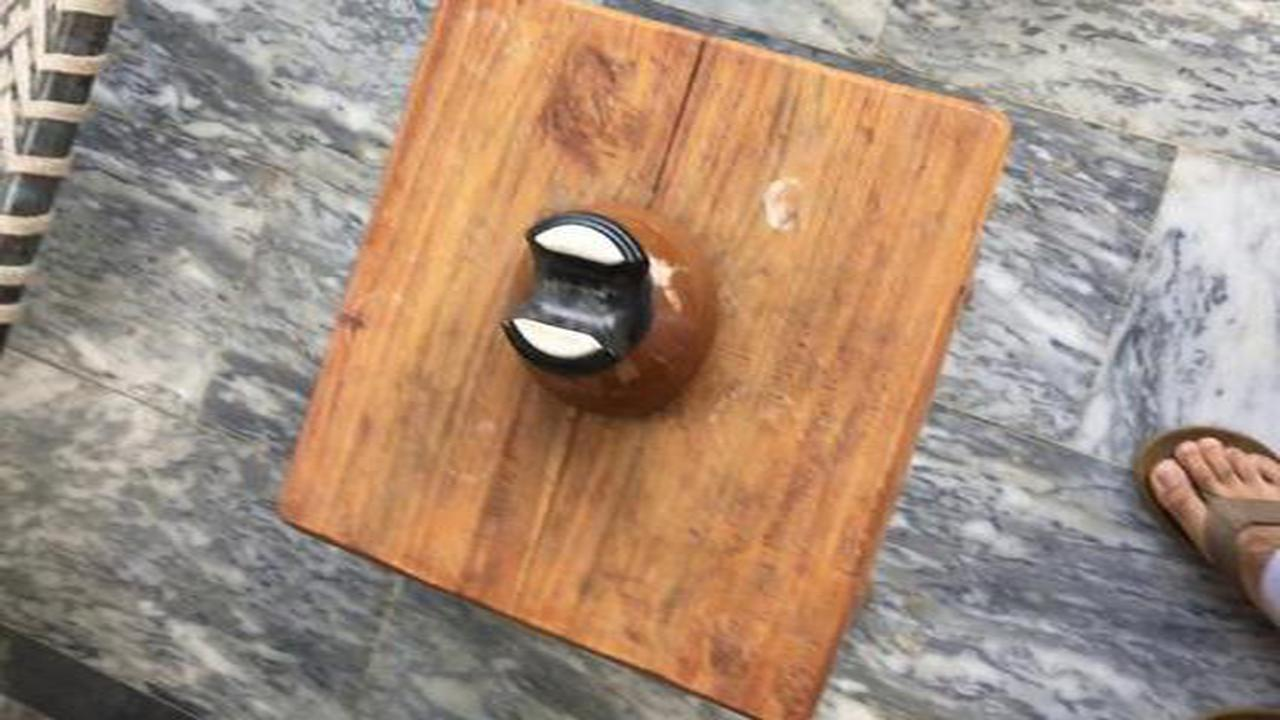insulator_pin: (477, 193, 748, 438)
